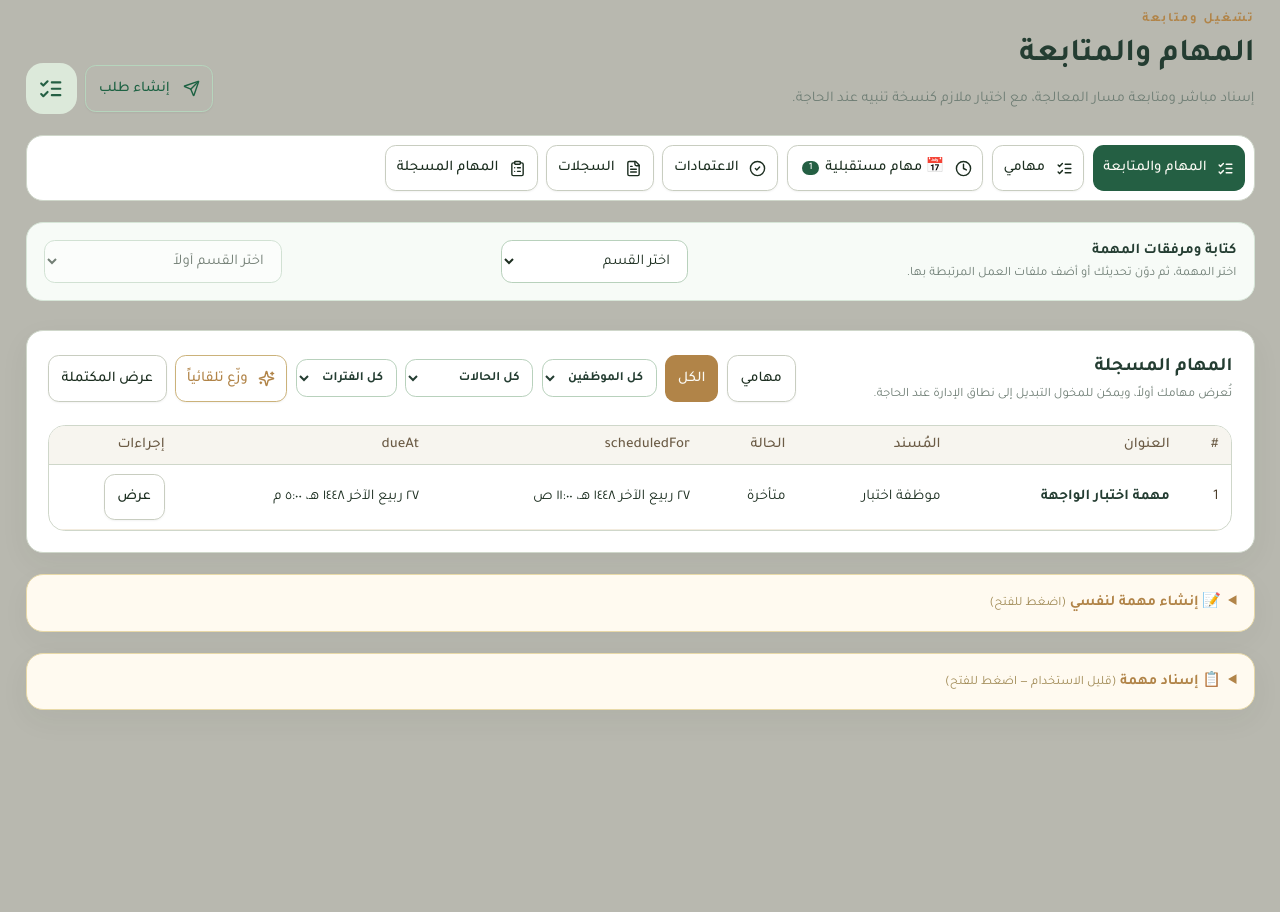
Test: مساحة المهام — تبويب المهام المسجلة › يفتح تبويب المهام المسجلة ويعرض الجدول وزر الإضافة
Click the button "المهام المسجلة": (461, 168) top-left (385, 145), bottom-right (538, 192)
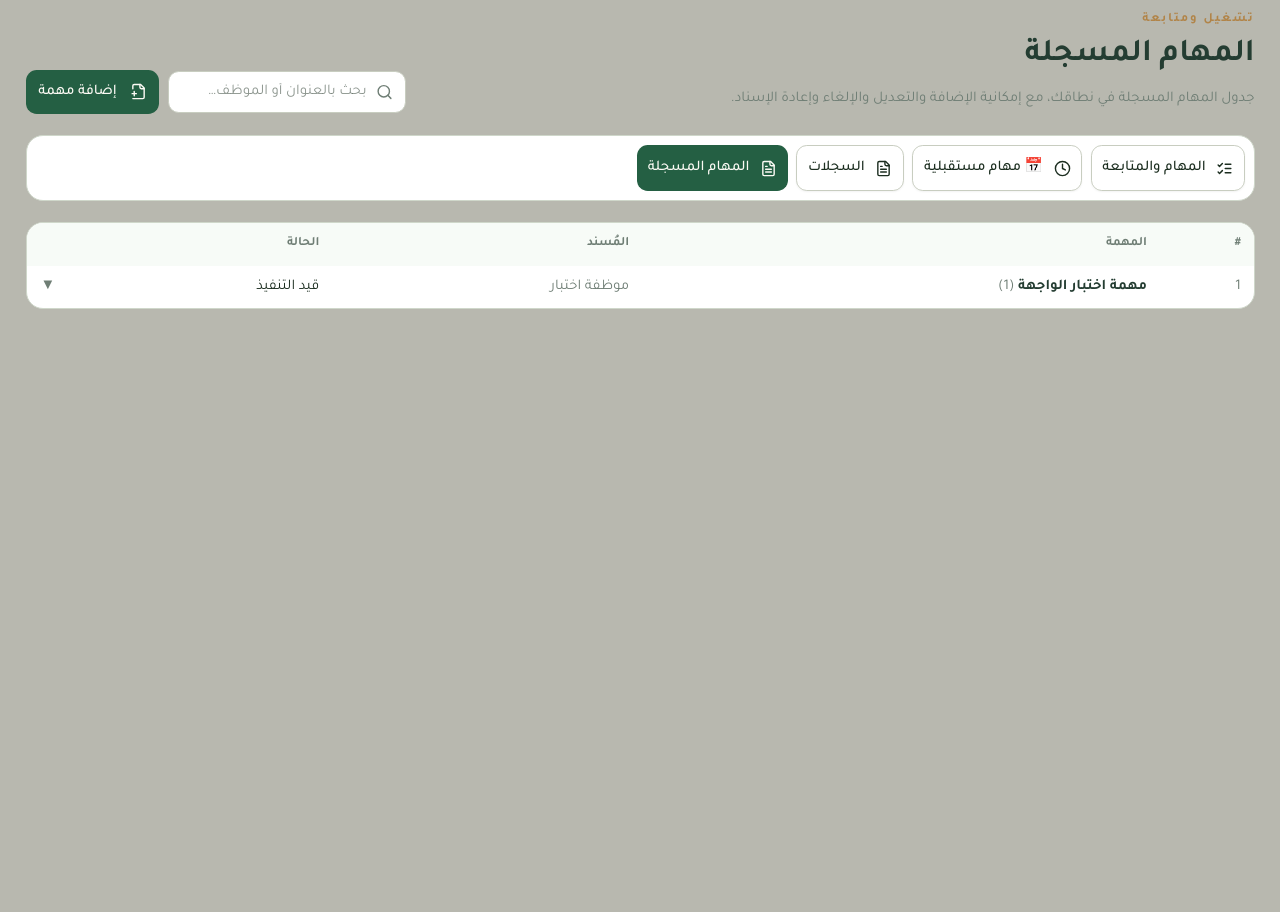
expect the button "إضافة مهمة" is shown: met, box top-left (26, 70), bottom-right (159, 114)
expect the text "مهمة اختبار الواجهة" is shown: met, box top-left (1018, 279), bottom-right (1147, 294)
